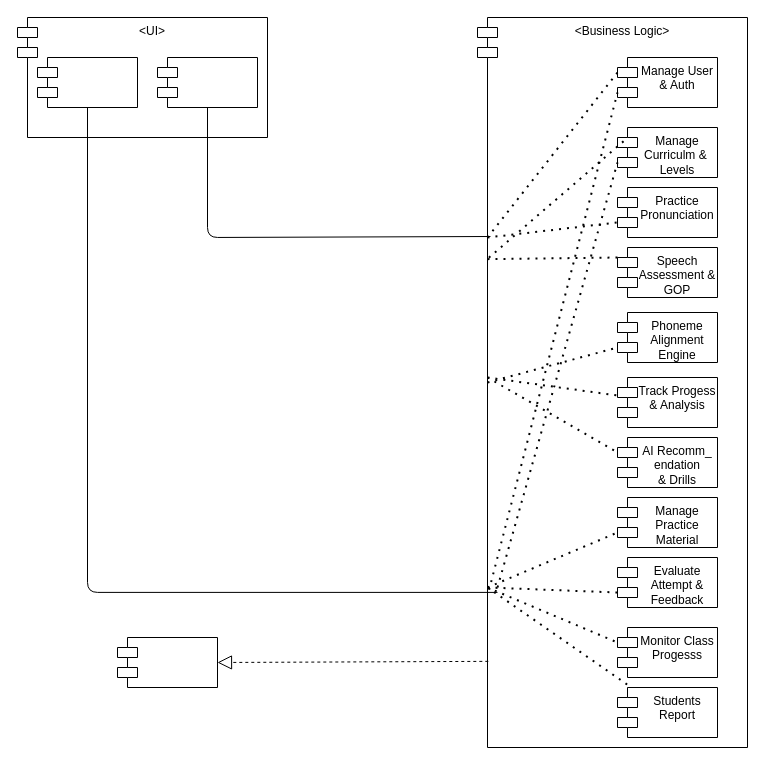
This 765x765 diagram has some shape labels left out. Each missing label, with the centre of its shape:
"Database" belongs at point (167, 662).
"Student Dashboard" belongs at point (207, 82).
"Teacher Dashboard" belongs at point (87, 82).
